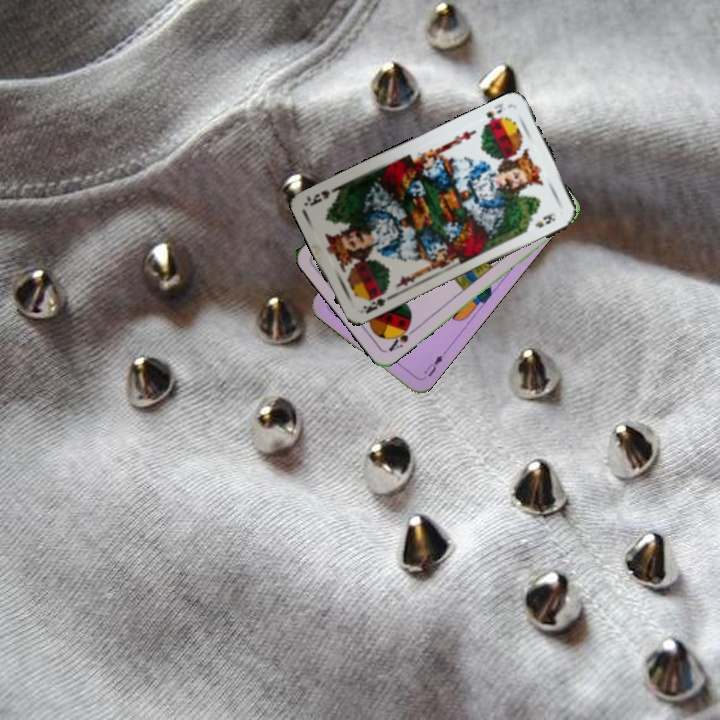EU: (419, 351, 445, 380)
SA: (384, 320, 418, 354)
SK: (480, 100, 510, 129), (359, 288, 389, 316)
